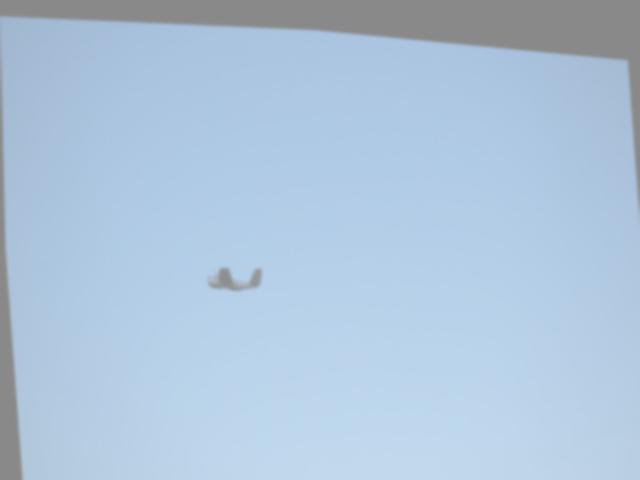plane: (204, 257, 263, 291)
